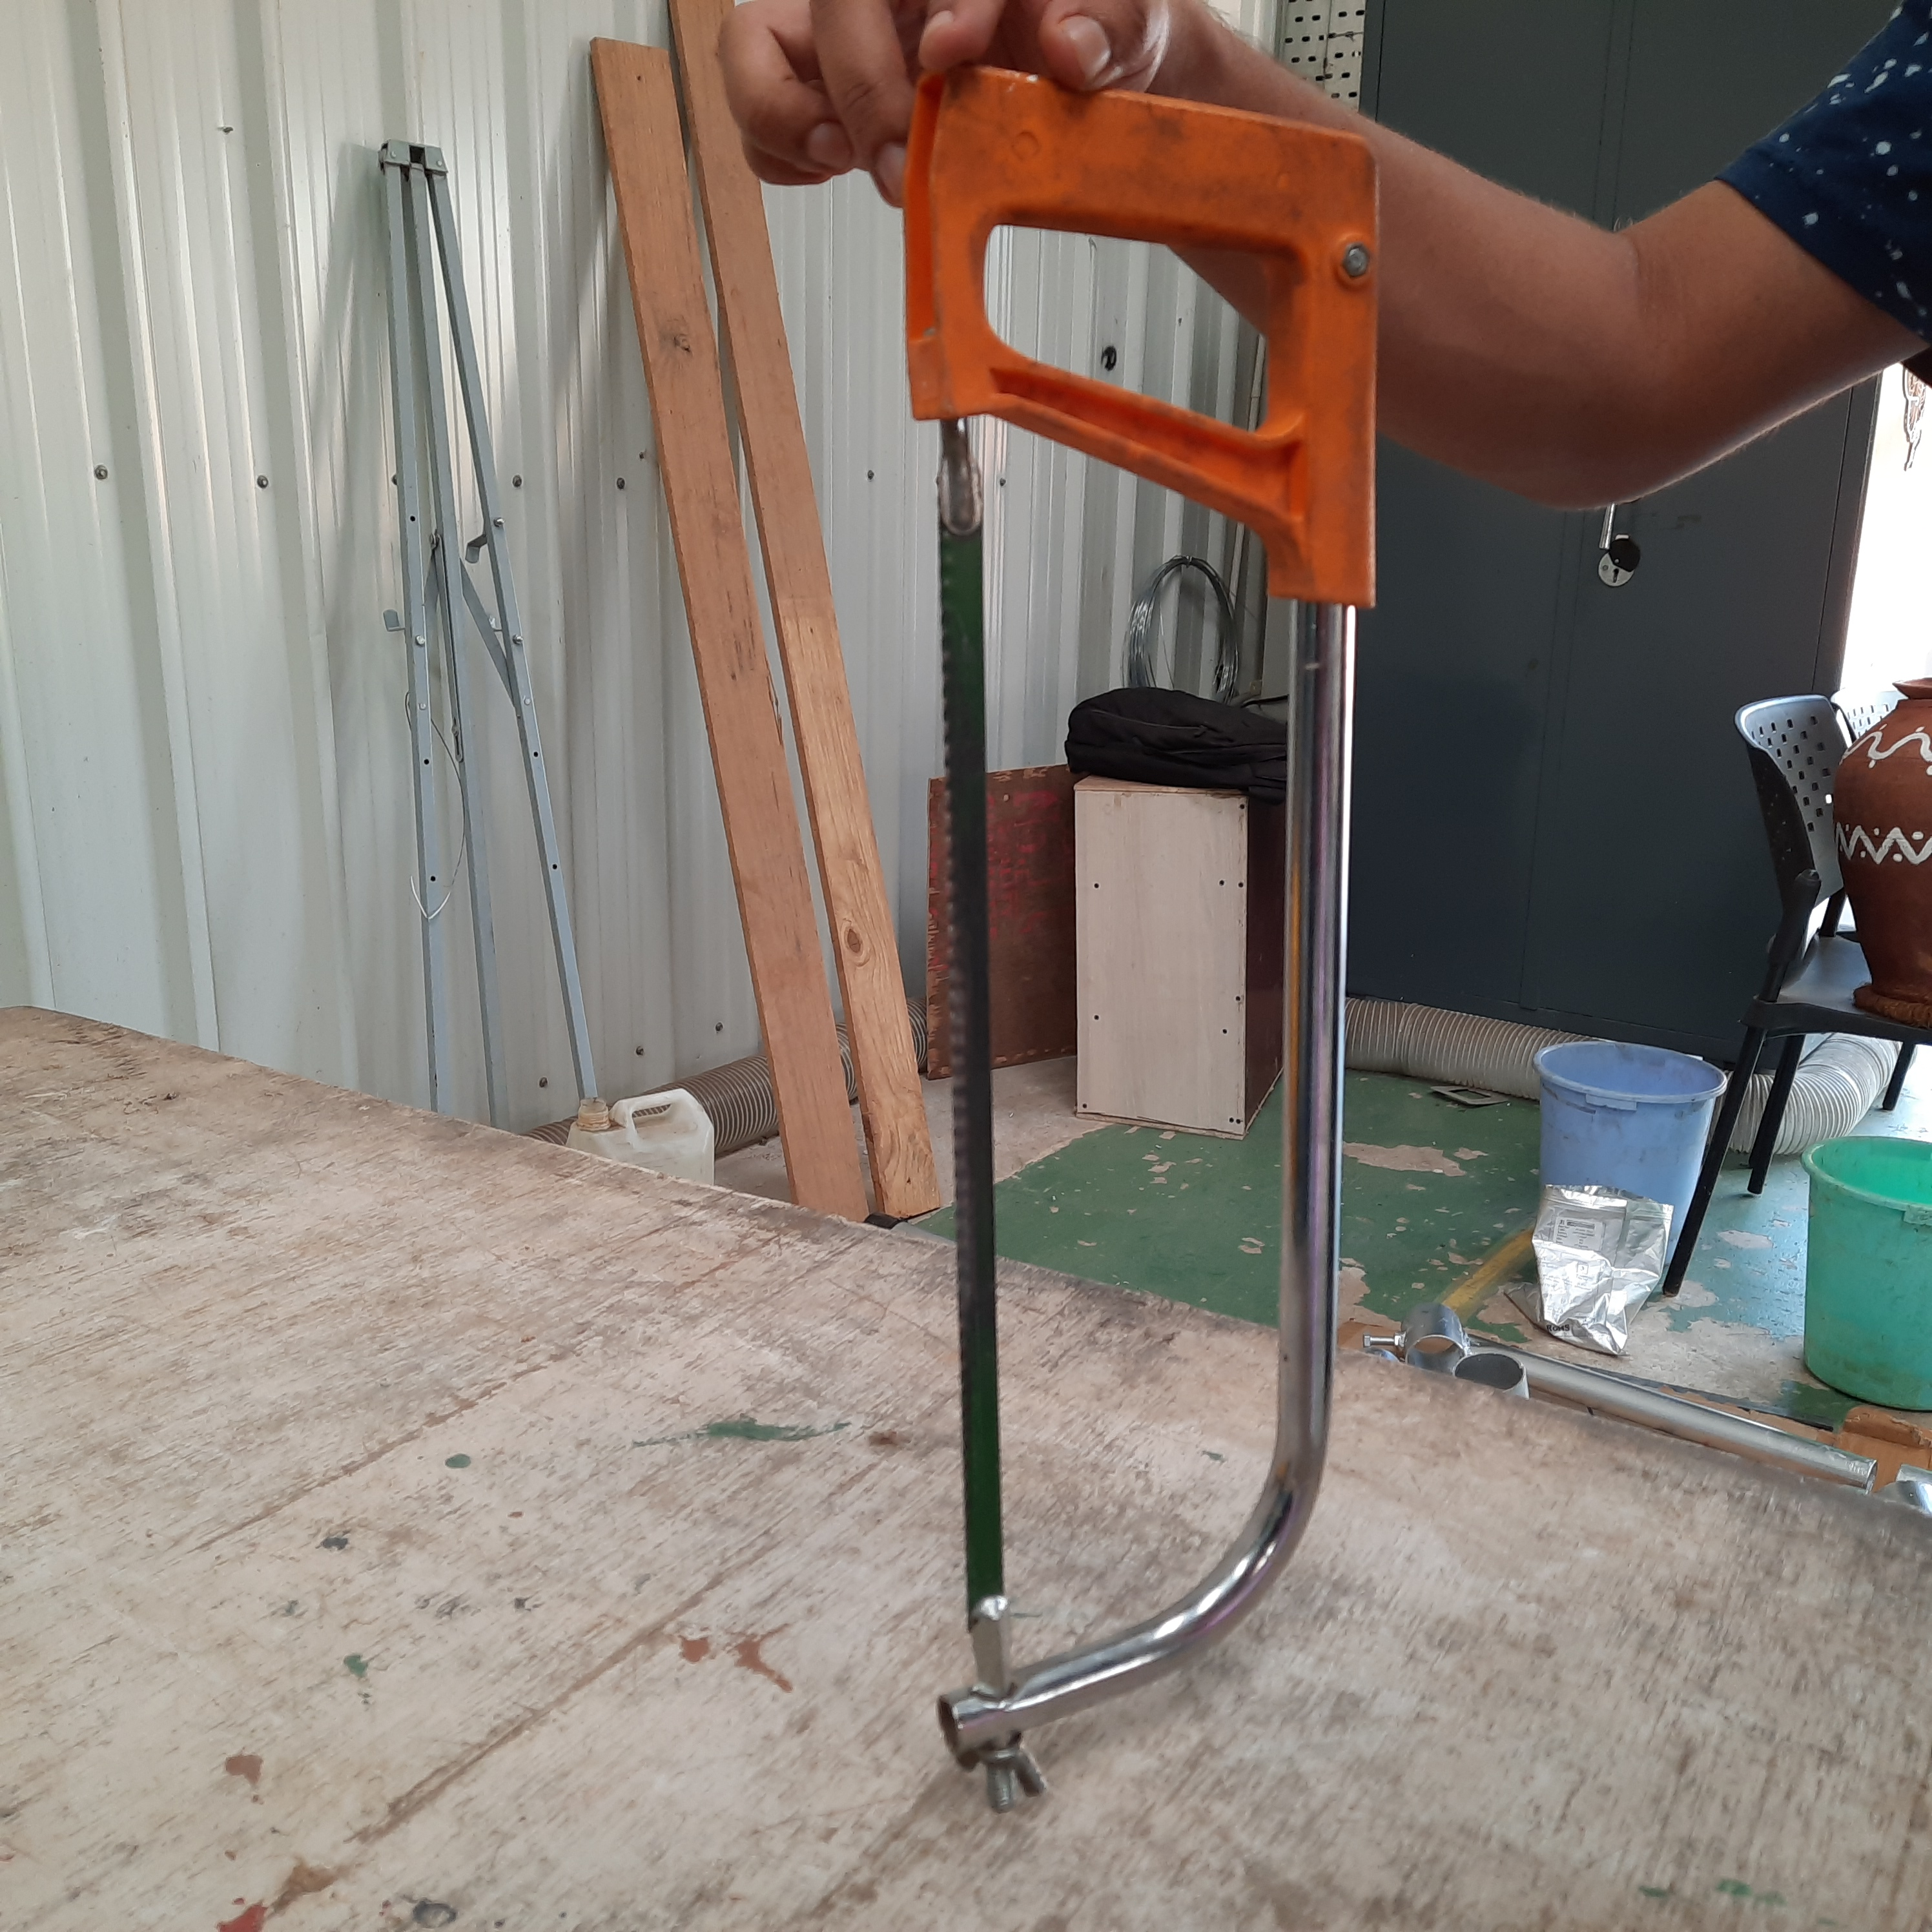Hexaframe: (899, 46, 1389, 1755)
